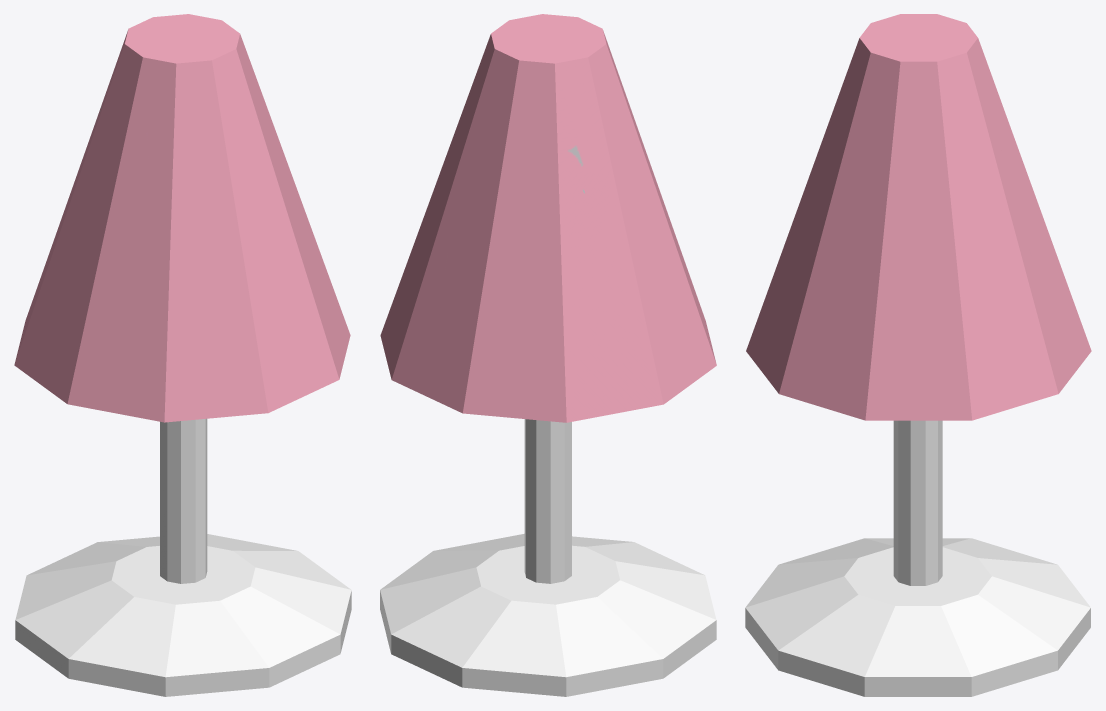
Rendered from lamp.fbx.
3 renders of one model, left to right at view 1: azimuth 30°, elevation 25°; view 2: azimuth 150°, elevation 25°; view 3: azimuth 270°, elevation 25°, orthographic.
Parts seen in each view (by area): view 1: node_id6, node_id10, node_id15, node_id14, node_id16, node_id11, node_id8; view 2: node_id6, node_id11, node_id15, node_id16, node_id12, node_id10, node_id8; view 3: node_id6, node_id12, node_id15, node_id10, node_id11, node_id16, node_id9.
Part boxes in pixels (box(x1,y1,x2,y2)): node_id6: box(14, 14, 350, 696); node_id10: box(162, 34, 285, 207); node_id15: box(99, 468, 351, 652); node_id14: box(164, 376, 260, 422); node_id16: box(42, 534, 208, 568); node_id11: box(14, 116, 97, 363); node_id8: box(115, 564, 196, 696); node_id6: box(467, 14, 716, 696); node_id11: box(414, 152, 663, 422); node_id15: box(380, 463, 556, 645); node_id16: box(389, 623, 543, 694); node_id12: box(380, 194, 550, 463); node_id10: box(448, 30, 629, 161); node_id8: box(549, 566, 704, 696); node_id6: box(745, 14, 1064, 669); node_id12: box(865, 247, 1074, 481); node_id15: box(778, 457, 1050, 696); node_id10: box(815, 38, 1010, 209); node_id11: box(955, 128, 1091, 372); node_id16: box(1010, 567, 1090, 674); node_id9: box(875, 199, 975, 260).
Size of the model in its own units: 0.2596 by 0.512 by 0.2728.
11 materials, 11 textured.
